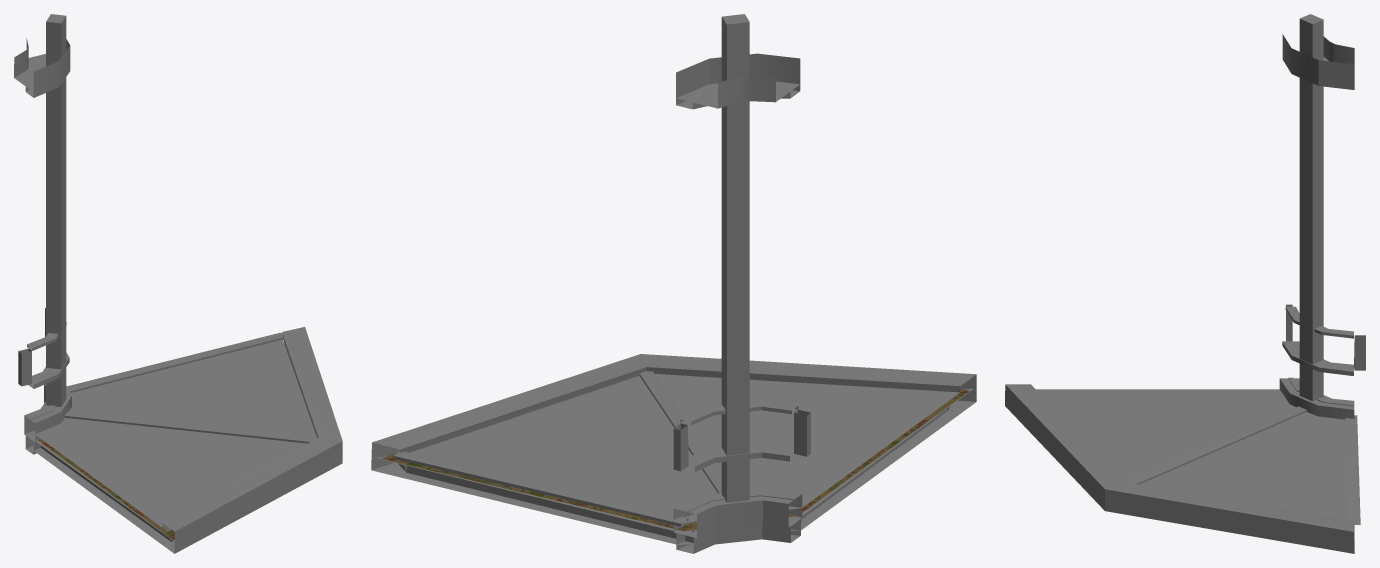
The model's file is Attic_Corners_Floor.fbx.
3 renders of one model, left to right at view 1: azimuth 30°, elevation 25°; view 2: azimuth 150°, elevation 25°; view 3: azimuth 270°, elevation 25°, orthographic. The views are drawn at different scales.
Visible parts, largest first — view 1: Attic_Corners_Floor; view 2: Attic_Corners_Floor; view 3: Attic_Corners_Floor.
Boxes of the visible parts, x1,y1,x2,y2 form: Attic_Corners_Floor: (14, 14, 342, 553); Attic_Corners_Floor: (371, 14, 976, 553); Attic_Corners_Floor: (1005, 14, 1365, 553).
Size of the model in its own units: 362 by 453 by 362.
